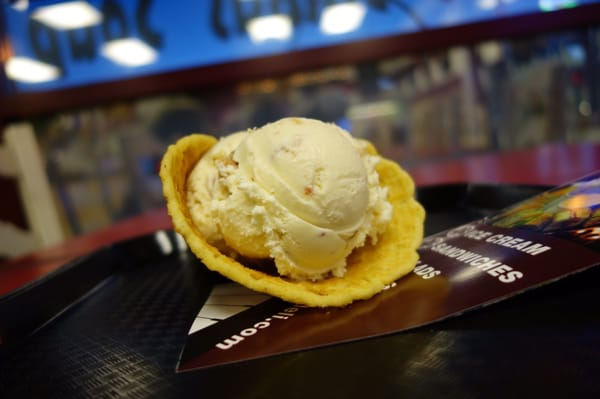soup: (158, 115, 428, 308)
